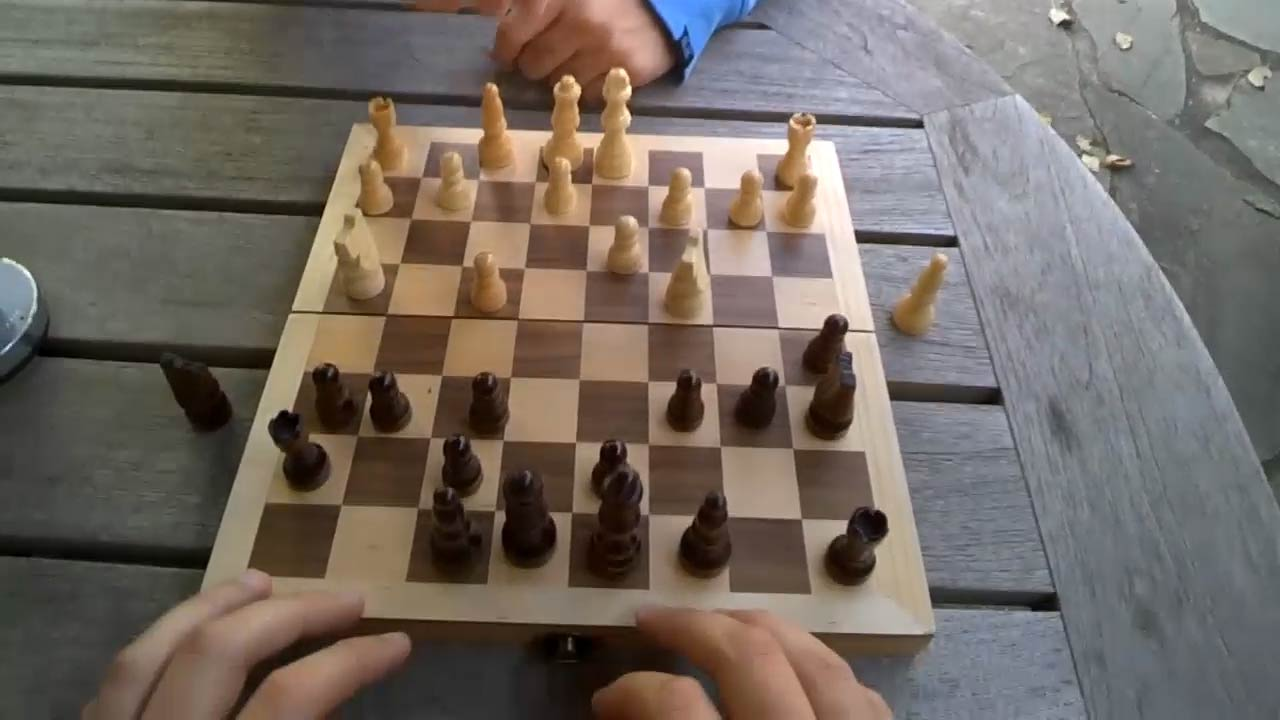hand: (85, 571, 407, 716), (597, 614, 880, 715), (505, 3, 670, 93)
